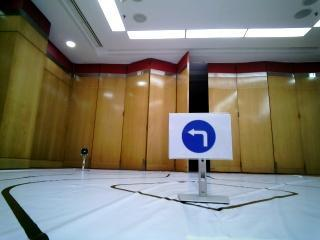left: (173, 115, 223, 157)
